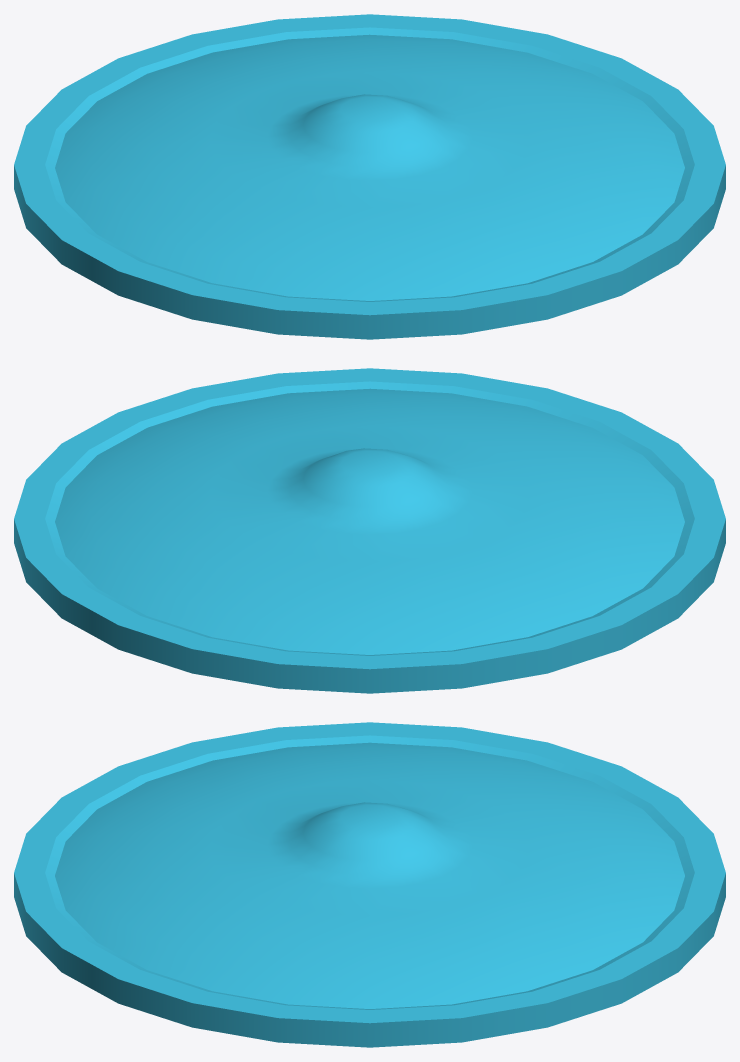
Rendered from dwf_lord_shield_01.fbx.
3 views of the same model, one above another, from view 1: azimuth 30°, elevation 25°; view 2: azimuth 150°, elevation 25°; view 3: azimuth 270°, elevation 25° (orthographic).
Visible parts, largest first — view 1: dwf_lord_shield_01_lod1_lod1; view 2: dwf_lord_shield_01_lod1_lod1; view 3: dwf_lord_shield_01_lod1_lod1.
Part boxes in pixels (box(x1,y1,x2,y2)): dwf_lord_shield_01_lod1_lod1: box(14, 14, 725, 339); dwf_lord_shield_01_lod1_lod1: box(14, 368, 725, 693); dwf_lord_shield_01_lod1_lod1: box(14, 722, 725, 1047).
Size of the model in its own units: 35.13 by 8.61 by 35.13.
